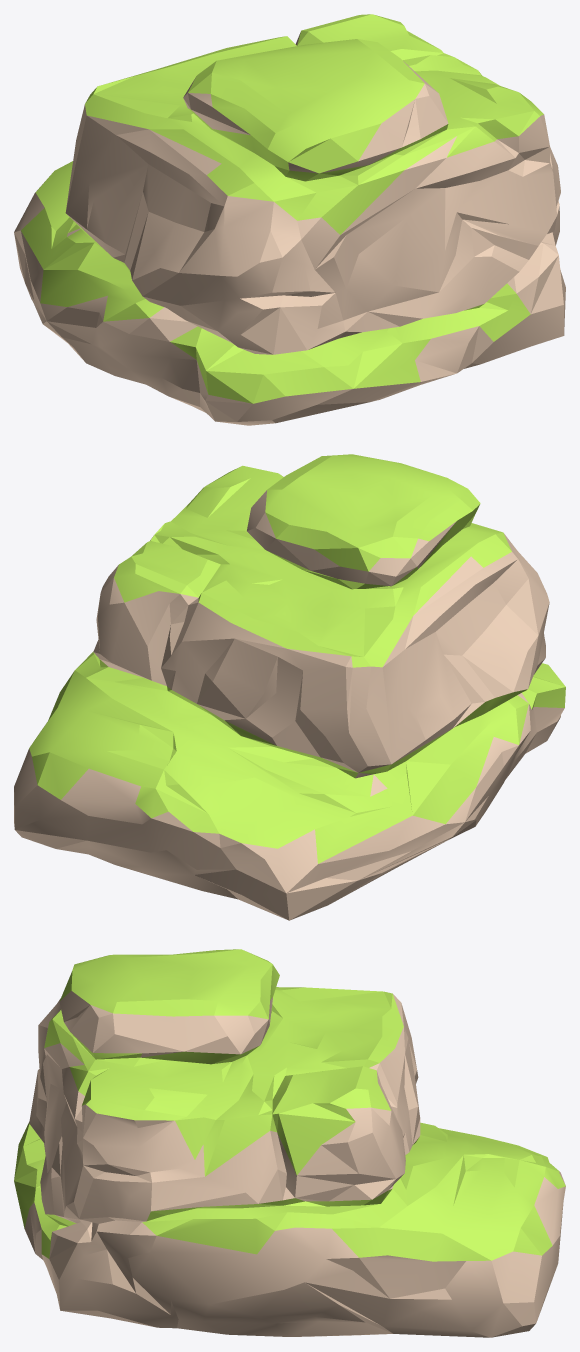
File: rock_3.glb
The picture shows the model from 3 angles, top to bottom: view 1: azimuth 30°, elevation 25°; view 2: azimuth 150°, elevation 25°; view 3: azimuth 270°, elevation 25°; orthographic projection. The views are drawn at different scales.
Parts seen in each view (by area): view 1: Rock1.004; view 2: Rock1.004; view 3: Rock1.004.
Part boxes in pixels (box(x1,y1,x2,y2)): Rock1.004: box(14, 14, 565, 425); Rock1.004: box(14, 454, 565, 920); Rock1.004: box(14, 949, 565, 1337).
Bounding box in the file's own units: 1.53 × 1.07 × 1.83.
1 material, 1 textured.
